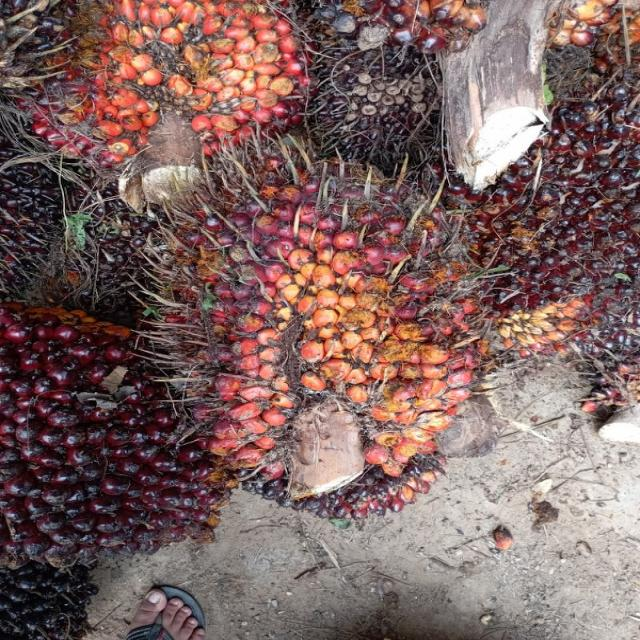fraksi 3: (84, 112, 580, 566)
fraksi 4: (9, 0, 359, 213)
